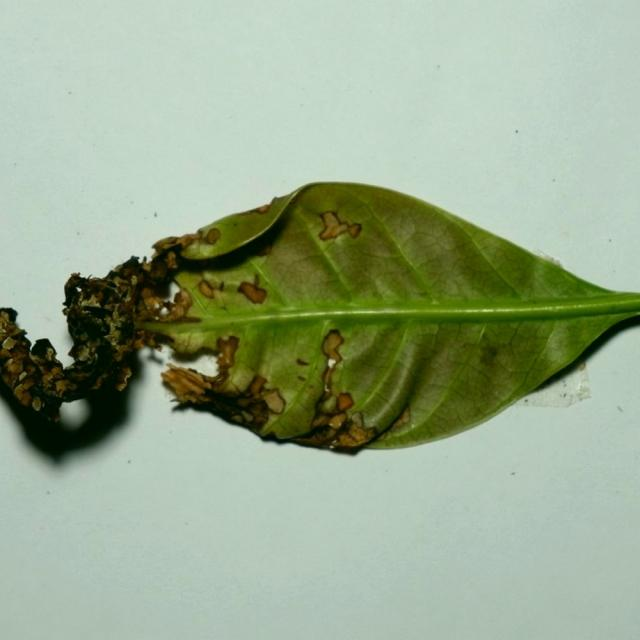Anthracnose: (159, 364, 215, 402), (150, 290, 194, 324), (317, 209, 362, 241), (234, 280, 272, 308), (157, 232, 203, 255), (328, 425, 369, 449), (290, 427, 334, 446), (216, 334, 240, 367), (321, 329, 344, 363), (147, 256, 172, 282), (261, 389, 285, 415), (388, 405, 411, 432), (30, 339, 58, 361), (41, 368, 66, 392), (7, 343, 31, 366), (478, 345, 502, 368), (247, 374, 268, 397), (172, 288, 192, 311), (319, 393, 338, 415), (210, 282, 226, 306), (152, 236, 179, 250), (140, 288, 159, 307), (336, 392, 354, 412), (53, 379, 74, 396), (322, 211, 341, 229), (198, 279, 215, 299), (348, 411, 365, 429), (157, 300, 175, 317), (329, 412, 347, 427), (205, 228, 221, 244), (256, 242, 274, 256), (20, 393, 32, 407), (254, 204, 270, 213), (296, 358, 309, 366), (32, 399, 41, 410), (297, 375, 306, 382)
Lemon: (0, 182, 639, 458)
